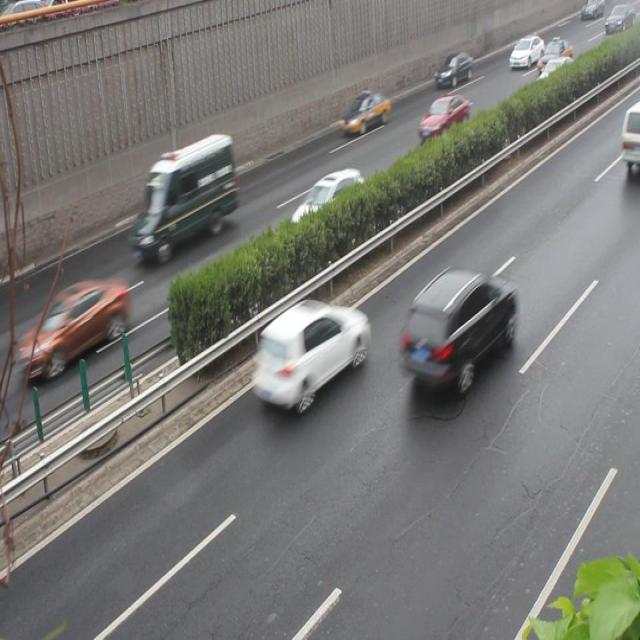car: (400, 262, 513, 385), (249, 296, 368, 406), (16, 275, 127, 379), (289, 166, 363, 239), (416, 91, 466, 141), (337, 86, 389, 134)
